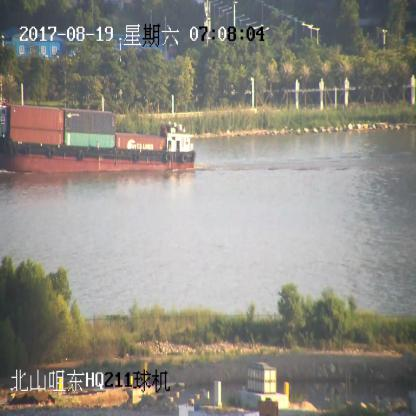Container Ship: (0, 106, 196, 172)
